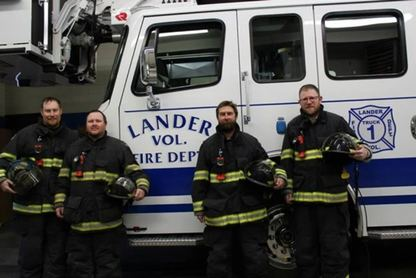ambulance: (97, 2, 415, 277)
